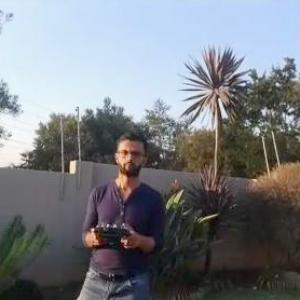follow: (67, 124, 169, 299)
